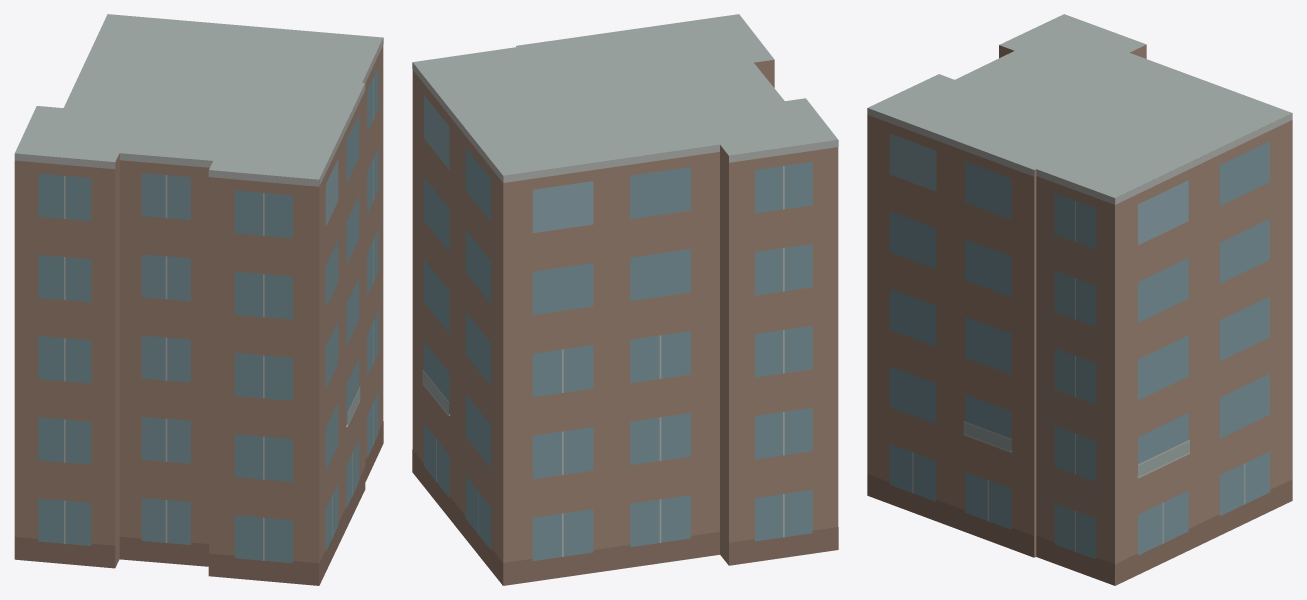
Rendered from survey-upis-32704151.glb.
3 views of the same model, side by side, from view 1: azimuth 30°, elevation 25°; view 2: azimuth 150°, elevation 25°; view 3: azimuth 270°, elevation 25° (orthographic). The views are drawn at different scales.
Parts seen in each view (by area): view 1: survey-upis-32704151.tmp; view 2: survey-upis-32704151.tmp; view 3: survey-upis-32704151.tmp.
Part boxes in pixels (<box>): survey-upis-32704151.tmp: <box>14,14,383,585</box>; survey-upis-32704151.tmp: <box>412,14,838,585</box>; survey-upis-32704151.tmp: <box>867,14,1292,585</box>.
Bounding box in the file's own units: 14.21 × 13.94 × 13.86.
